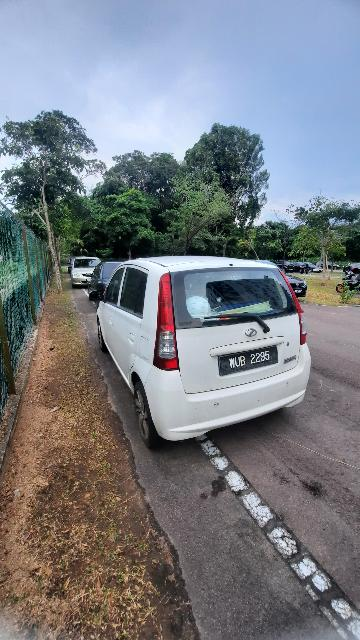License_Plate: (214, 345, 290, 380)
car: (89, 257, 318, 449)
